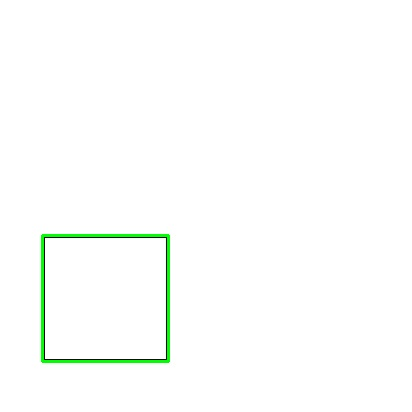line_segment: (41, 234, 170, 363)
